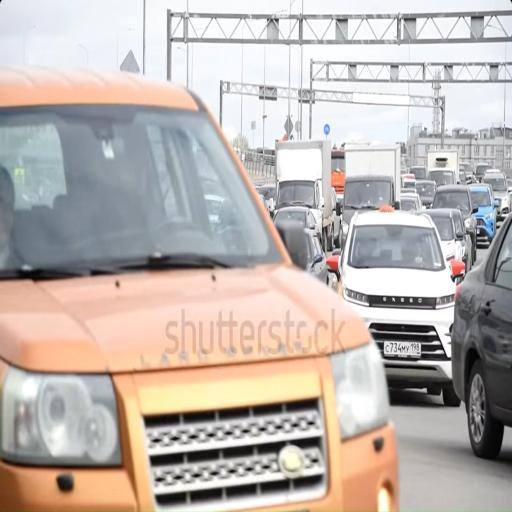License plates: (384, 341, 421, 358), (477, 228, 480, 235)
